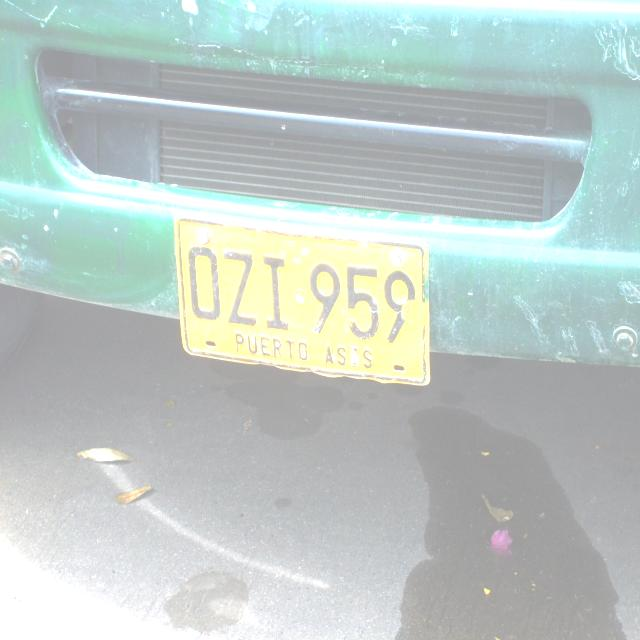placa: (170, 207, 433, 388)
